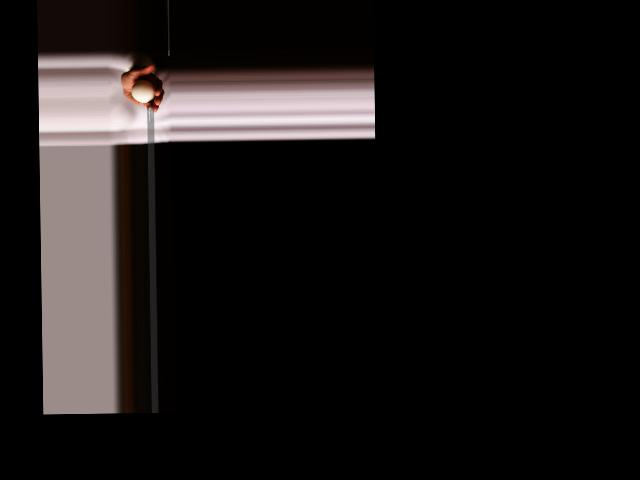egg: (131, 79, 155, 103)
